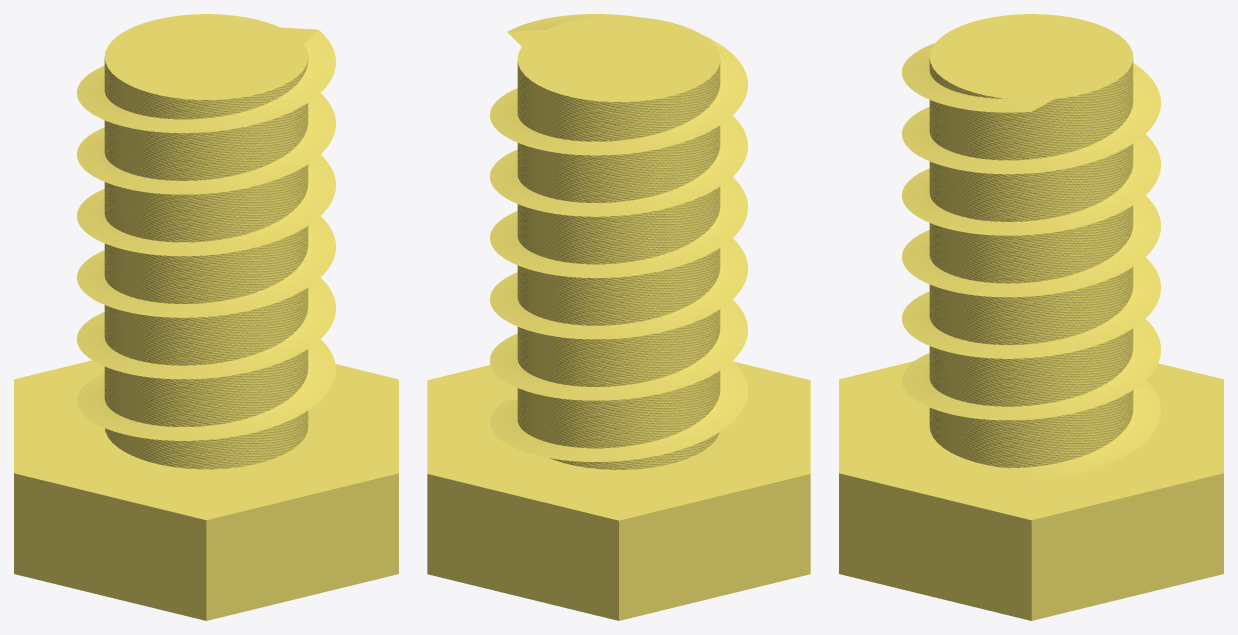
File: bolt.glb
3 renders of one model, left to right at view 1: azimuth 30°, elevation 25°; view 2: azimuth 150°, elevation 25°; view 3: azimuth 270°, elevation 25°, orthographic.
Size of the model in its own units: 24 by 28 by 20.78.
